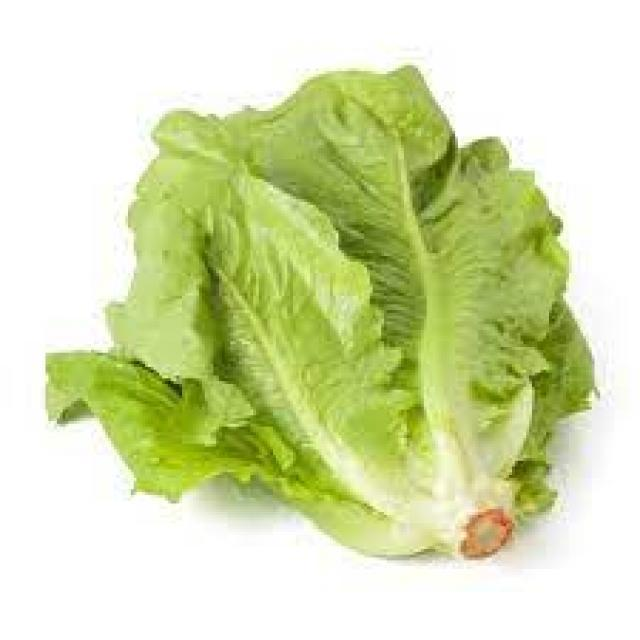Lettuce: (68, 65, 597, 563)
